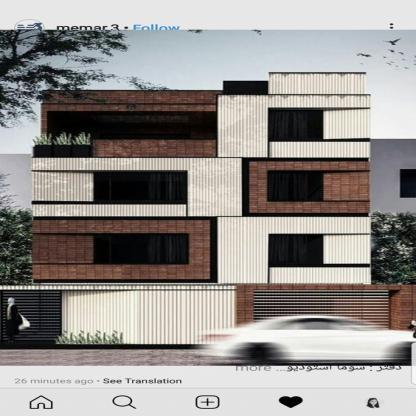Balcony: (47, 139, 217, 158)
Blind: (47, 111, 217, 140), (94, 171, 187, 204), (93, 233, 189, 264), (269, 234, 323, 267), (269, 108, 323, 141), (268, 171, 323, 202)
Building Outline: (0, 72, 416, 349)
Dont: (198, 315, 416, 366), (32, 131, 92, 158), (5, 297, 31, 344)
Door: (254, 290, 389, 349), (0, 290, 61, 349)
Facade: (41, 91, 371, 349)
Floor: (32, 216, 371, 285), (32, 158, 371, 211)
Floor Slab: (0, 285, 416, 290), (32, 212, 371, 217), (41, 153, 371, 158)
Ground Floor: (0, 290, 416, 349)
Top Floor: (41, 90, 371, 153)
Window: (47, 111, 217, 140), (94, 171, 187, 204), (93, 233, 189, 264), (269, 108, 323, 141), (269, 234, 323, 267), (268, 171, 323, 202)
